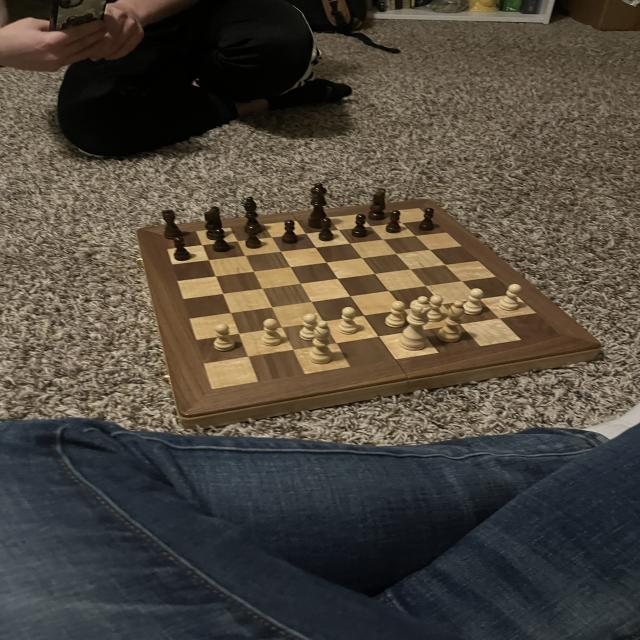bishop: (239, 196, 266, 233)
black-bishop: (305, 180, 332, 229)
black-king: (365, 186, 389, 223), (202, 206, 227, 241)
black-knight: (171, 235, 194, 262), (317, 215, 337, 245), (210, 227, 233, 253), (416, 207, 438, 234), (243, 223, 264, 250), (280, 218, 300, 246), (350, 212, 370, 239), (384, 210, 404, 234)
black-queen: (158, 207, 186, 240)
black-rook: (435, 299, 467, 345), (308, 320, 334, 366)
white-knight: (496, 282, 526, 313), (212, 322, 238, 353), (384, 300, 409, 330), (337, 305, 361, 336), (462, 287, 486, 317), (423, 294, 447, 324), (259, 318, 282, 347), (298, 312, 320, 342)
white-pawn: (399, 295, 434, 352)
